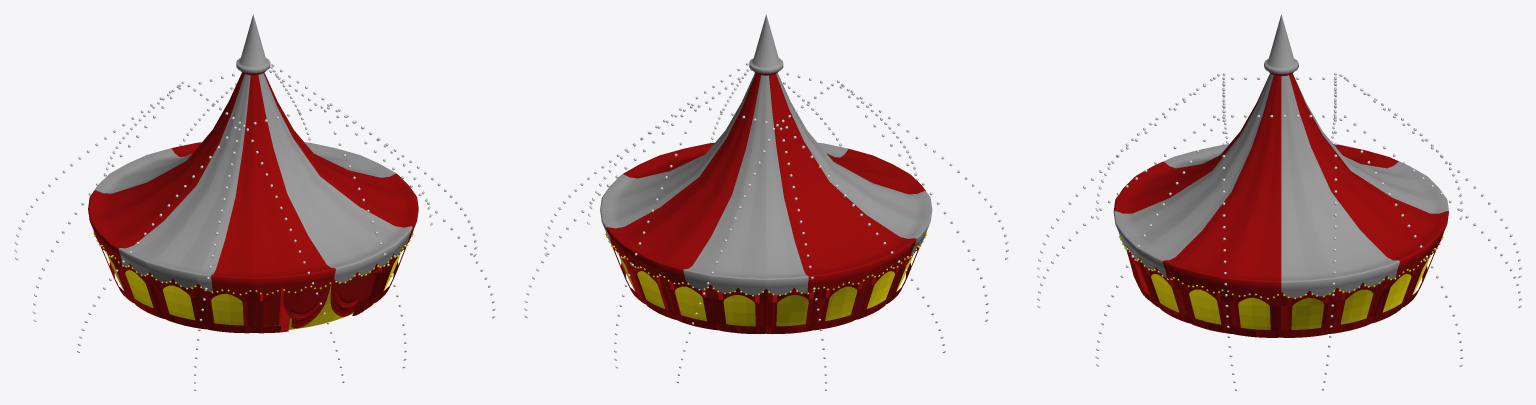
Rendered from S3_tento_211031.fbx.
3 renders of one model, left to right at view 1: azimuth 30°, elevation 25°; view 2: azimuth 150°, elevation 25°; view 3: azimuth 270°, elevation 25°, orthographic.
Parts seen in each view (by area): view 1: 屋根, 壁, Cylinder, オブジェクト003, Cone001, オブジェクト001, オブジェクト002; view 2: 屋根, 壁, Cylinder, Cone001; view 3: 屋根, 壁, Cylinder, Cone001.
Part boxes in pixels (x1,y1,x2,y2): 屋根: (88,72,418,295); 壁: (101,243,406,333); Cylinder: (107,253,400,329); オブジェクト003: (283,269,373,320); Cone001: (236,14,270,73); オブジェクト001: (291,281,356,327); オブジェクト002: (352,263,377,315); 屋根: (600,73,932,296); 壁: (613,244,919,333); Cylinder: (619,254,913,326); Cone001: (749,14,783,73); 屋根: (1113,73,1448,299); 壁: (1127,246,1435,337); Cylinder: (1151,257,1429,329); Cone001: (1264,14,1298,74).
Size of the model in its own units: 2917 by 1915 by 3019.
